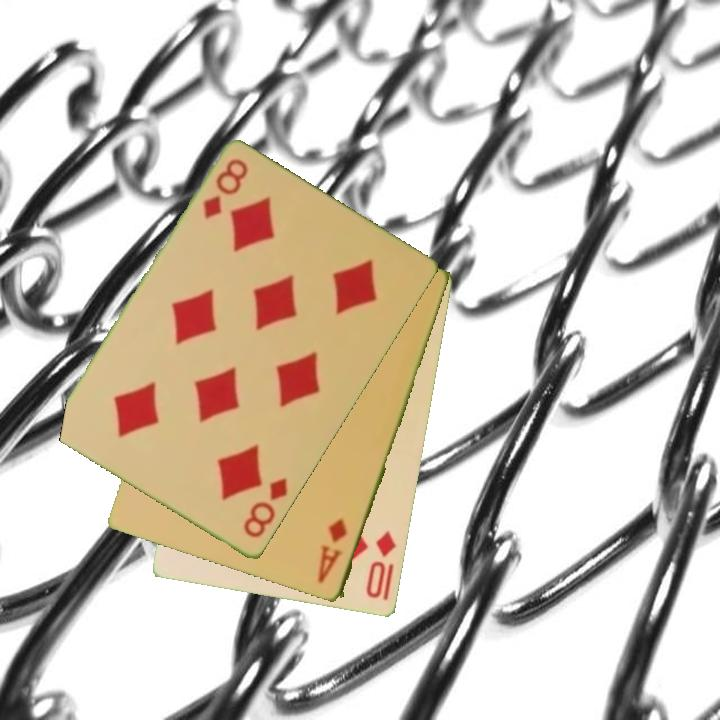10d: (363, 528, 400, 602)
8d: (199, 155, 251, 223), (240, 474, 291, 542)
Ad: (314, 515, 351, 587)
